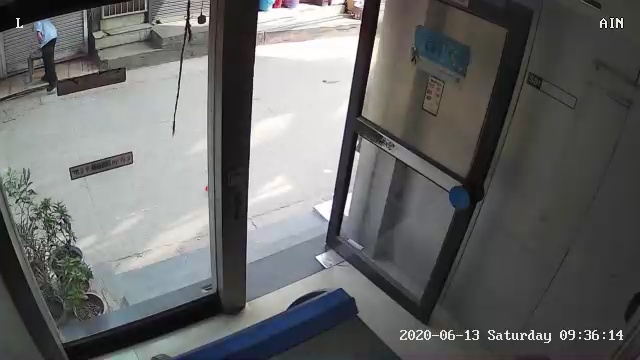open: (187, 7, 542, 322)
